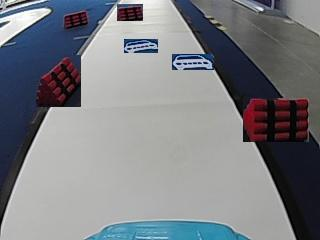bomb: (64, 9, 88, 27)
